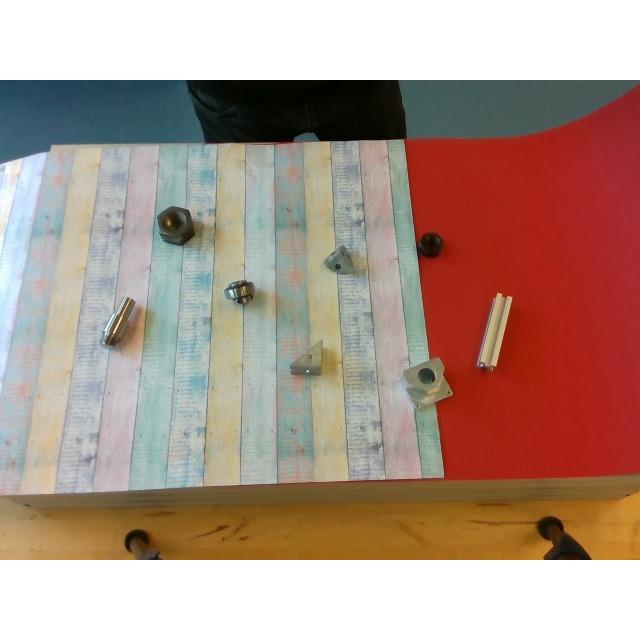Axis2: (102, 297, 134, 345)
Bearing2: (224, 280, 256, 304)
F20_20_G: (478, 292, 512, 368)
M20: (418, 232, 442, 256)
M30: (158, 205, 195, 242)
